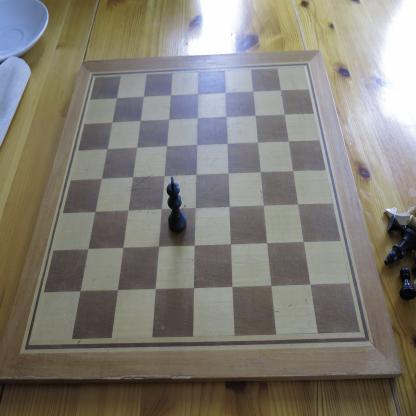black-bishop: (383, 228, 415, 268)
black-king: (166, 176, 187, 235)
